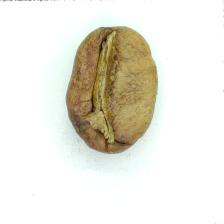NG: (82, 28, 153, 149)
